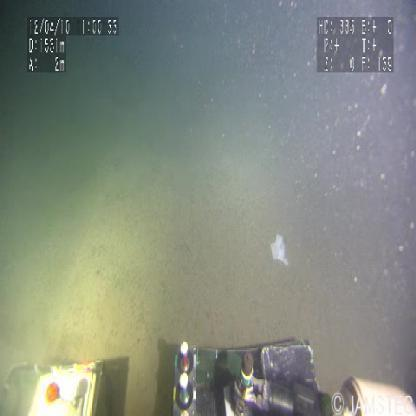Rác: (270, 230, 292, 270)
